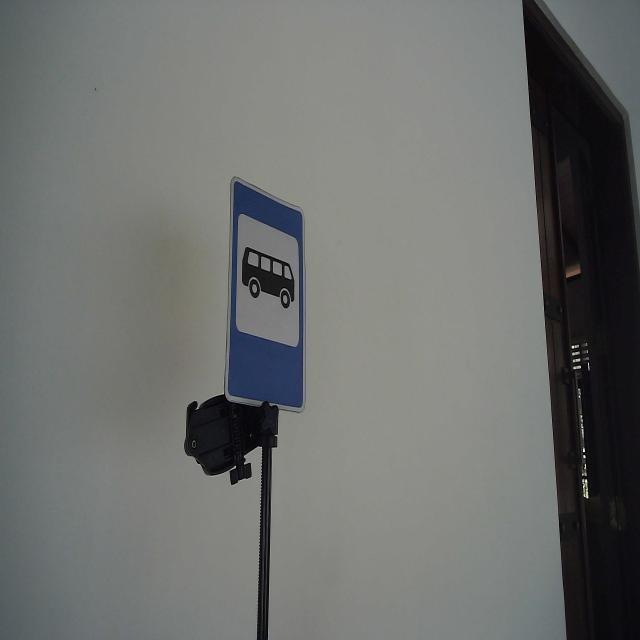bus_stop: (222, 172, 308, 416)
